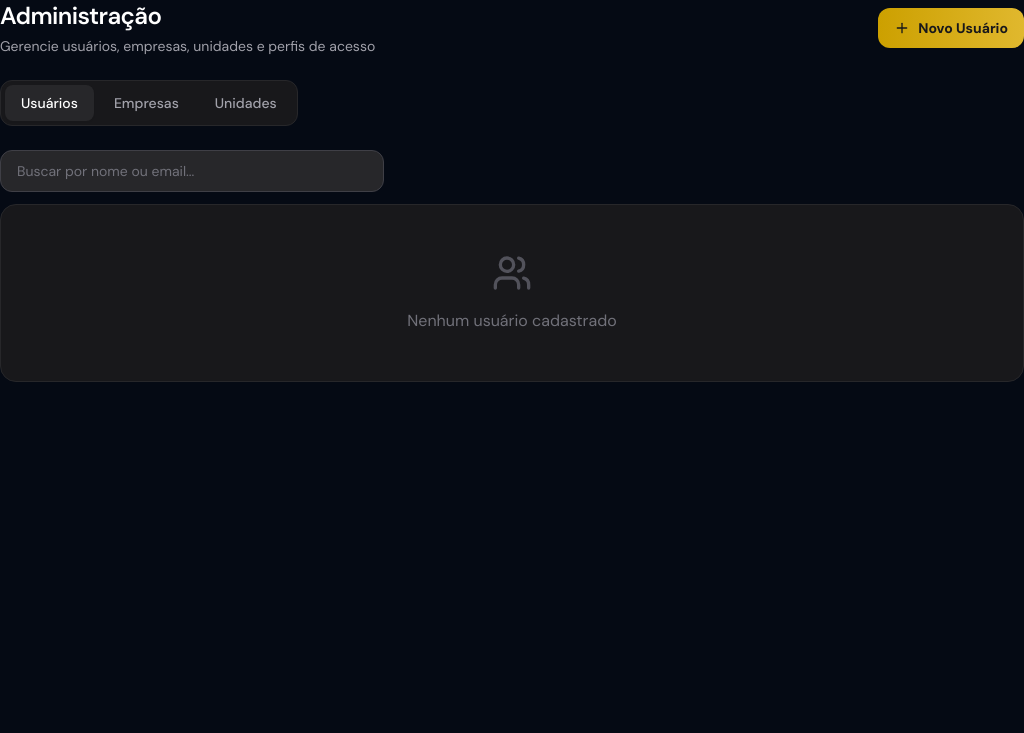
Scenario: AdminPage portal — config de empresa (F1 unificação) › resync confirmado: POST no endpoint certo + toast de sucesso com contadores
The image size is (1024, 733).
Click the button "Empresas" at [146, 103], box [98,85,195,121]
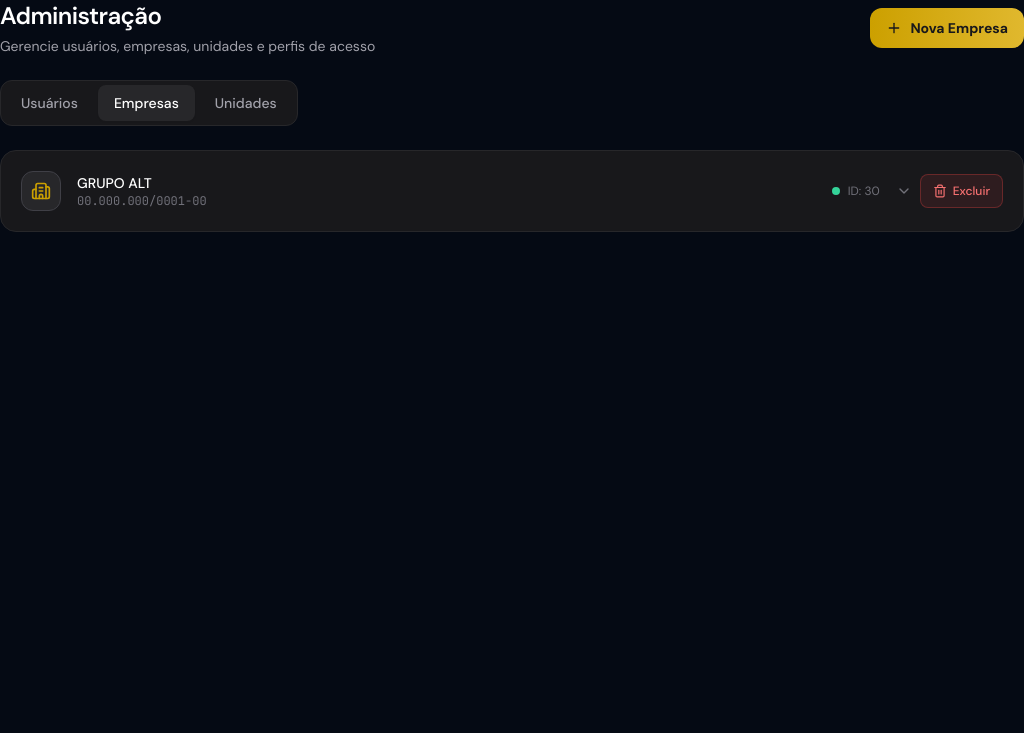
Click the button with aria-label "Expandir GRUPO ALT" at [41, 191], box [21,171,912,211]
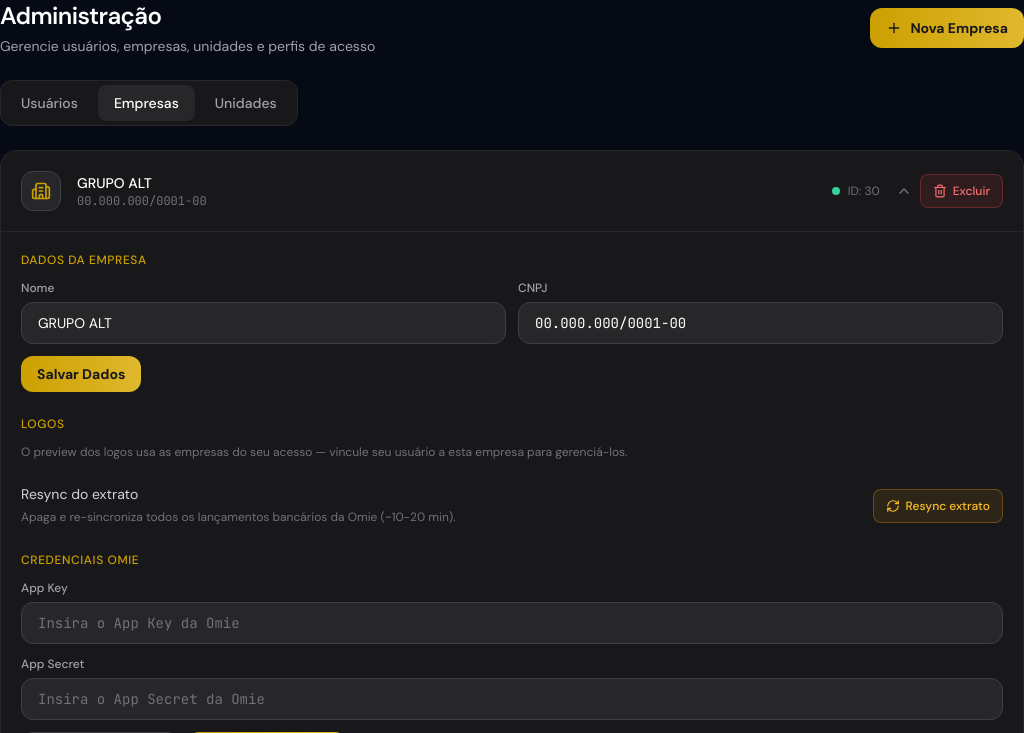
Click the button with aria-label "Resync extrato GRUPO ALT" at [938, 506], box [873,489,1003,523]
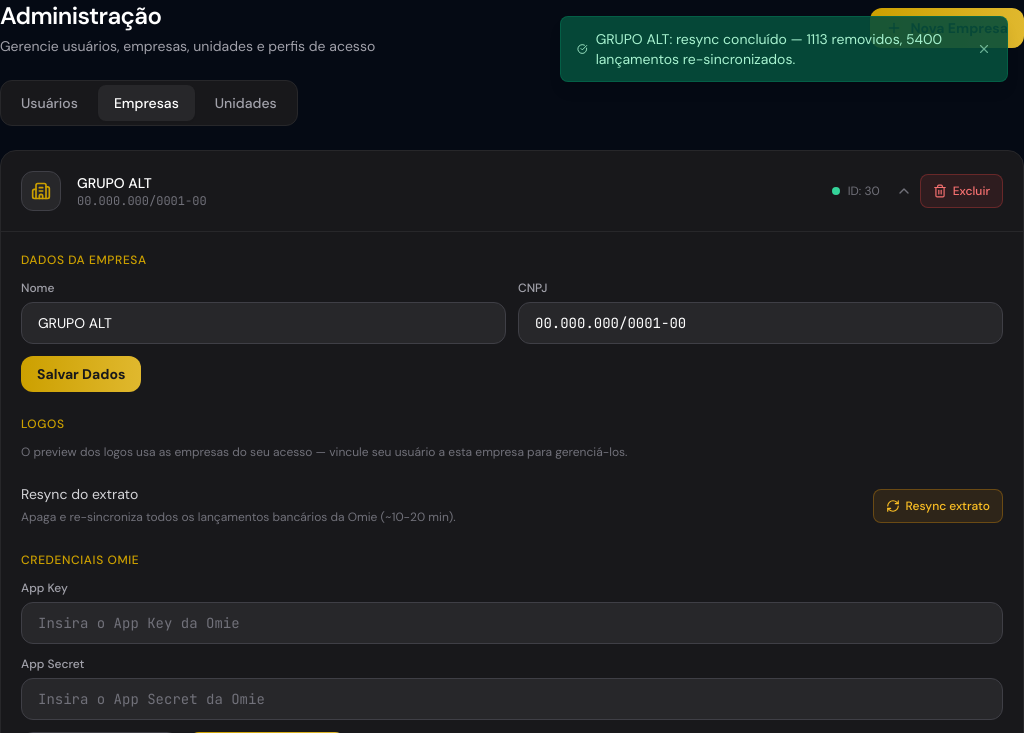
expect the message shows "1113 removidos": met, box [596,30,942,68]
expect the message shows "5400 lançamentos": met, box [596,30,942,68]
